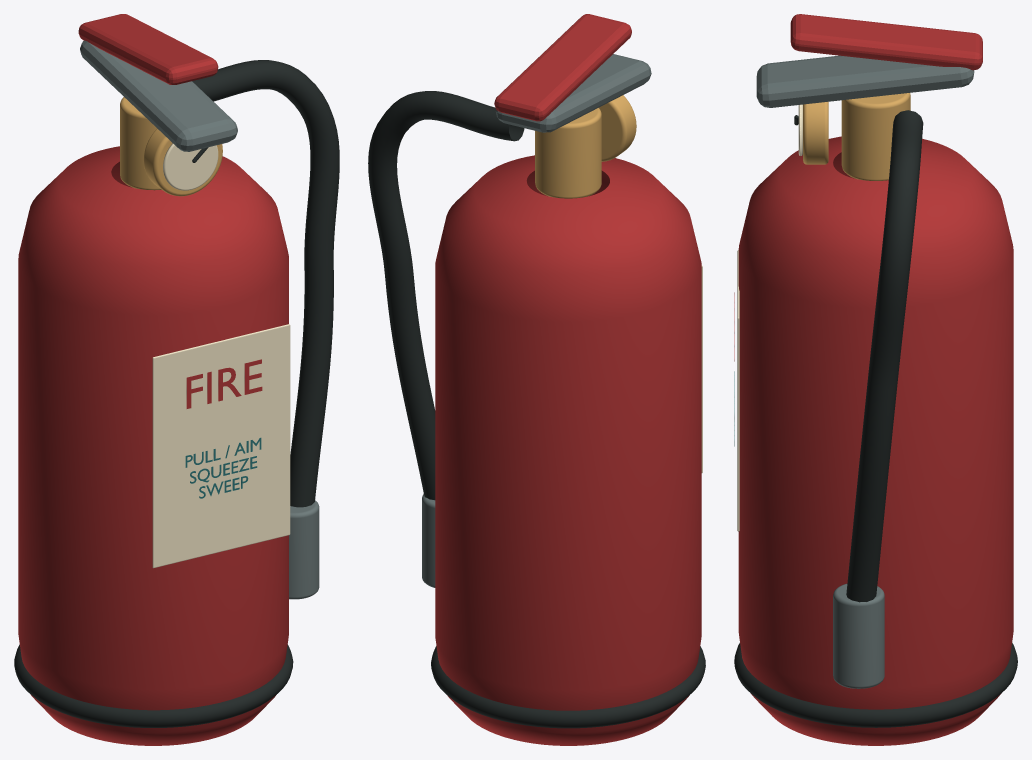
Rendered from Extinguisher.fbx.
3 views of the same model, side by side, from view 1: azimuth 30°, elevation 25°; view 2: azimuth 150°, elevation 25°; view 3: azimuth 270°, elevation 25° (orthographic). The views are drawn at different scales.
Visible parts, largest first — view 1: Extinguisher_Body; view 2: Extinguisher_Body; view 3: Extinguisher_Body.
Boxes of the visible parts, box(x1,y1,x2,y2) form: Extinguisher_Body: box(14, 14, 339, 745); Extinguisher_Body: box(368, 14, 705, 745); Extinguisher_Body: box(734, 14, 1017, 745).
Size of the model in its own units: 0.1711 by 0.3464 by 0.1321.
